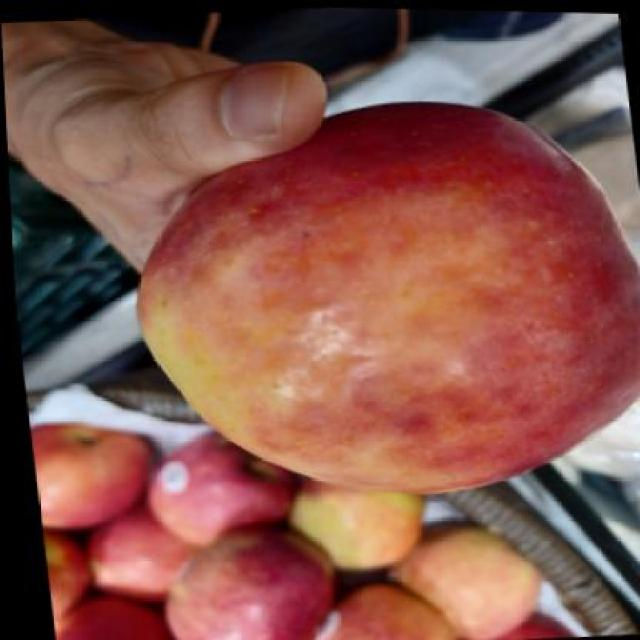Fresh Apple: (124, 97, 640, 504)
